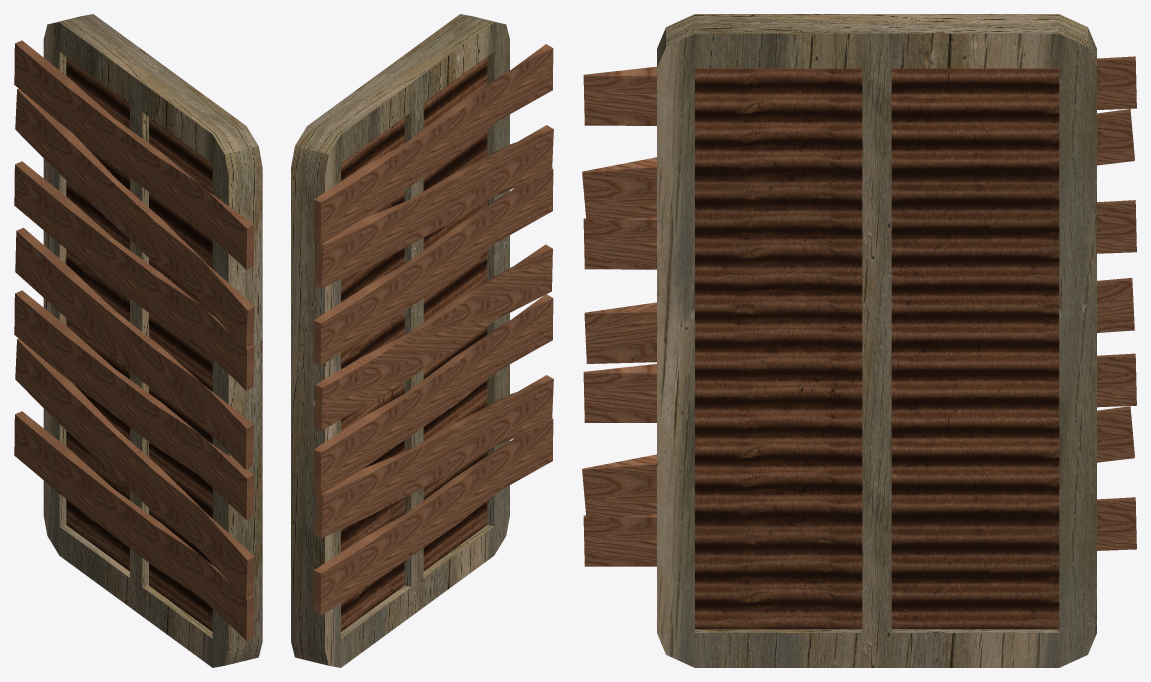
File: boardedwindow2.FBX
3 renders of one model, left to right at view 1: azimuth 30°, elevation 25°; view 2: azimuth 150°, elevation 25°; view 3: azimuth 270°, elevation 25°, orthographic. The views are drawn at different scales.
Visible parts, largest first — view 1: boarded window, window, Box001, Box006, Box004, Box002, Box005, Box003, Box007; view 2: boarded window, window, Box004, Box005, Box001, Box003, Box007, Box002, Box006; view 3: window, boarded window, Box004, Box005, Box006, Box002, Box001, Box003, Box007.
Part boxes in pixels (bbox=[...]): boarded window: bbox=[43, 14, 262, 667]; window: bbox=[66, 57, 212, 631]; Box001: bbox=[15, 227, 253, 469]; Box006: bbox=[15, 338, 254, 599]; Box004: bbox=[14, 40, 254, 269]; Box002: bbox=[15, 88, 254, 348]; Box005: bbox=[14, 290, 254, 519]; Box003: bbox=[14, 161, 254, 390]; Box007: bbox=[14, 411, 254, 640]; boarded window: bbox=[291, 14, 509, 667]; window: bbox=[341, 57, 487, 631]; Box004: bbox=[313, 44, 553, 244]; Box005: bbox=[313, 294, 553, 494]; Box001: bbox=[314, 244, 552, 430]; Box003: bbox=[313, 168, 553, 365]; Box007: bbox=[313, 418, 553, 615]; Box002: bbox=[314, 125, 553, 288]; Box006: bbox=[314, 375, 553, 537]; window: bbox=[695, 68, 1059, 629]; boarded window: bbox=[657, 14, 1096, 667]; Box004: bbox=[583, 56, 1136, 125]; Box005: bbox=[583, 353, 1136, 422]; Box006: bbox=[582, 406, 1134, 519]; Box002: bbox=[582, 109, 1134, 222]; Box001: bbox=[584, 278, 1134, 363]; Box003: bbox=[583, 200, 1136, 269]; Box007: bbox=[583, 497, 1136, 566].
Bounding box in the file's own units: 8.26 × 90.87 × 72.03.
Materials: 3 (3 with a texture image).
